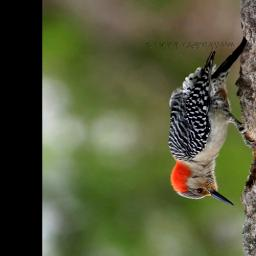Woodpecker: (159, 27, 253, 211)
